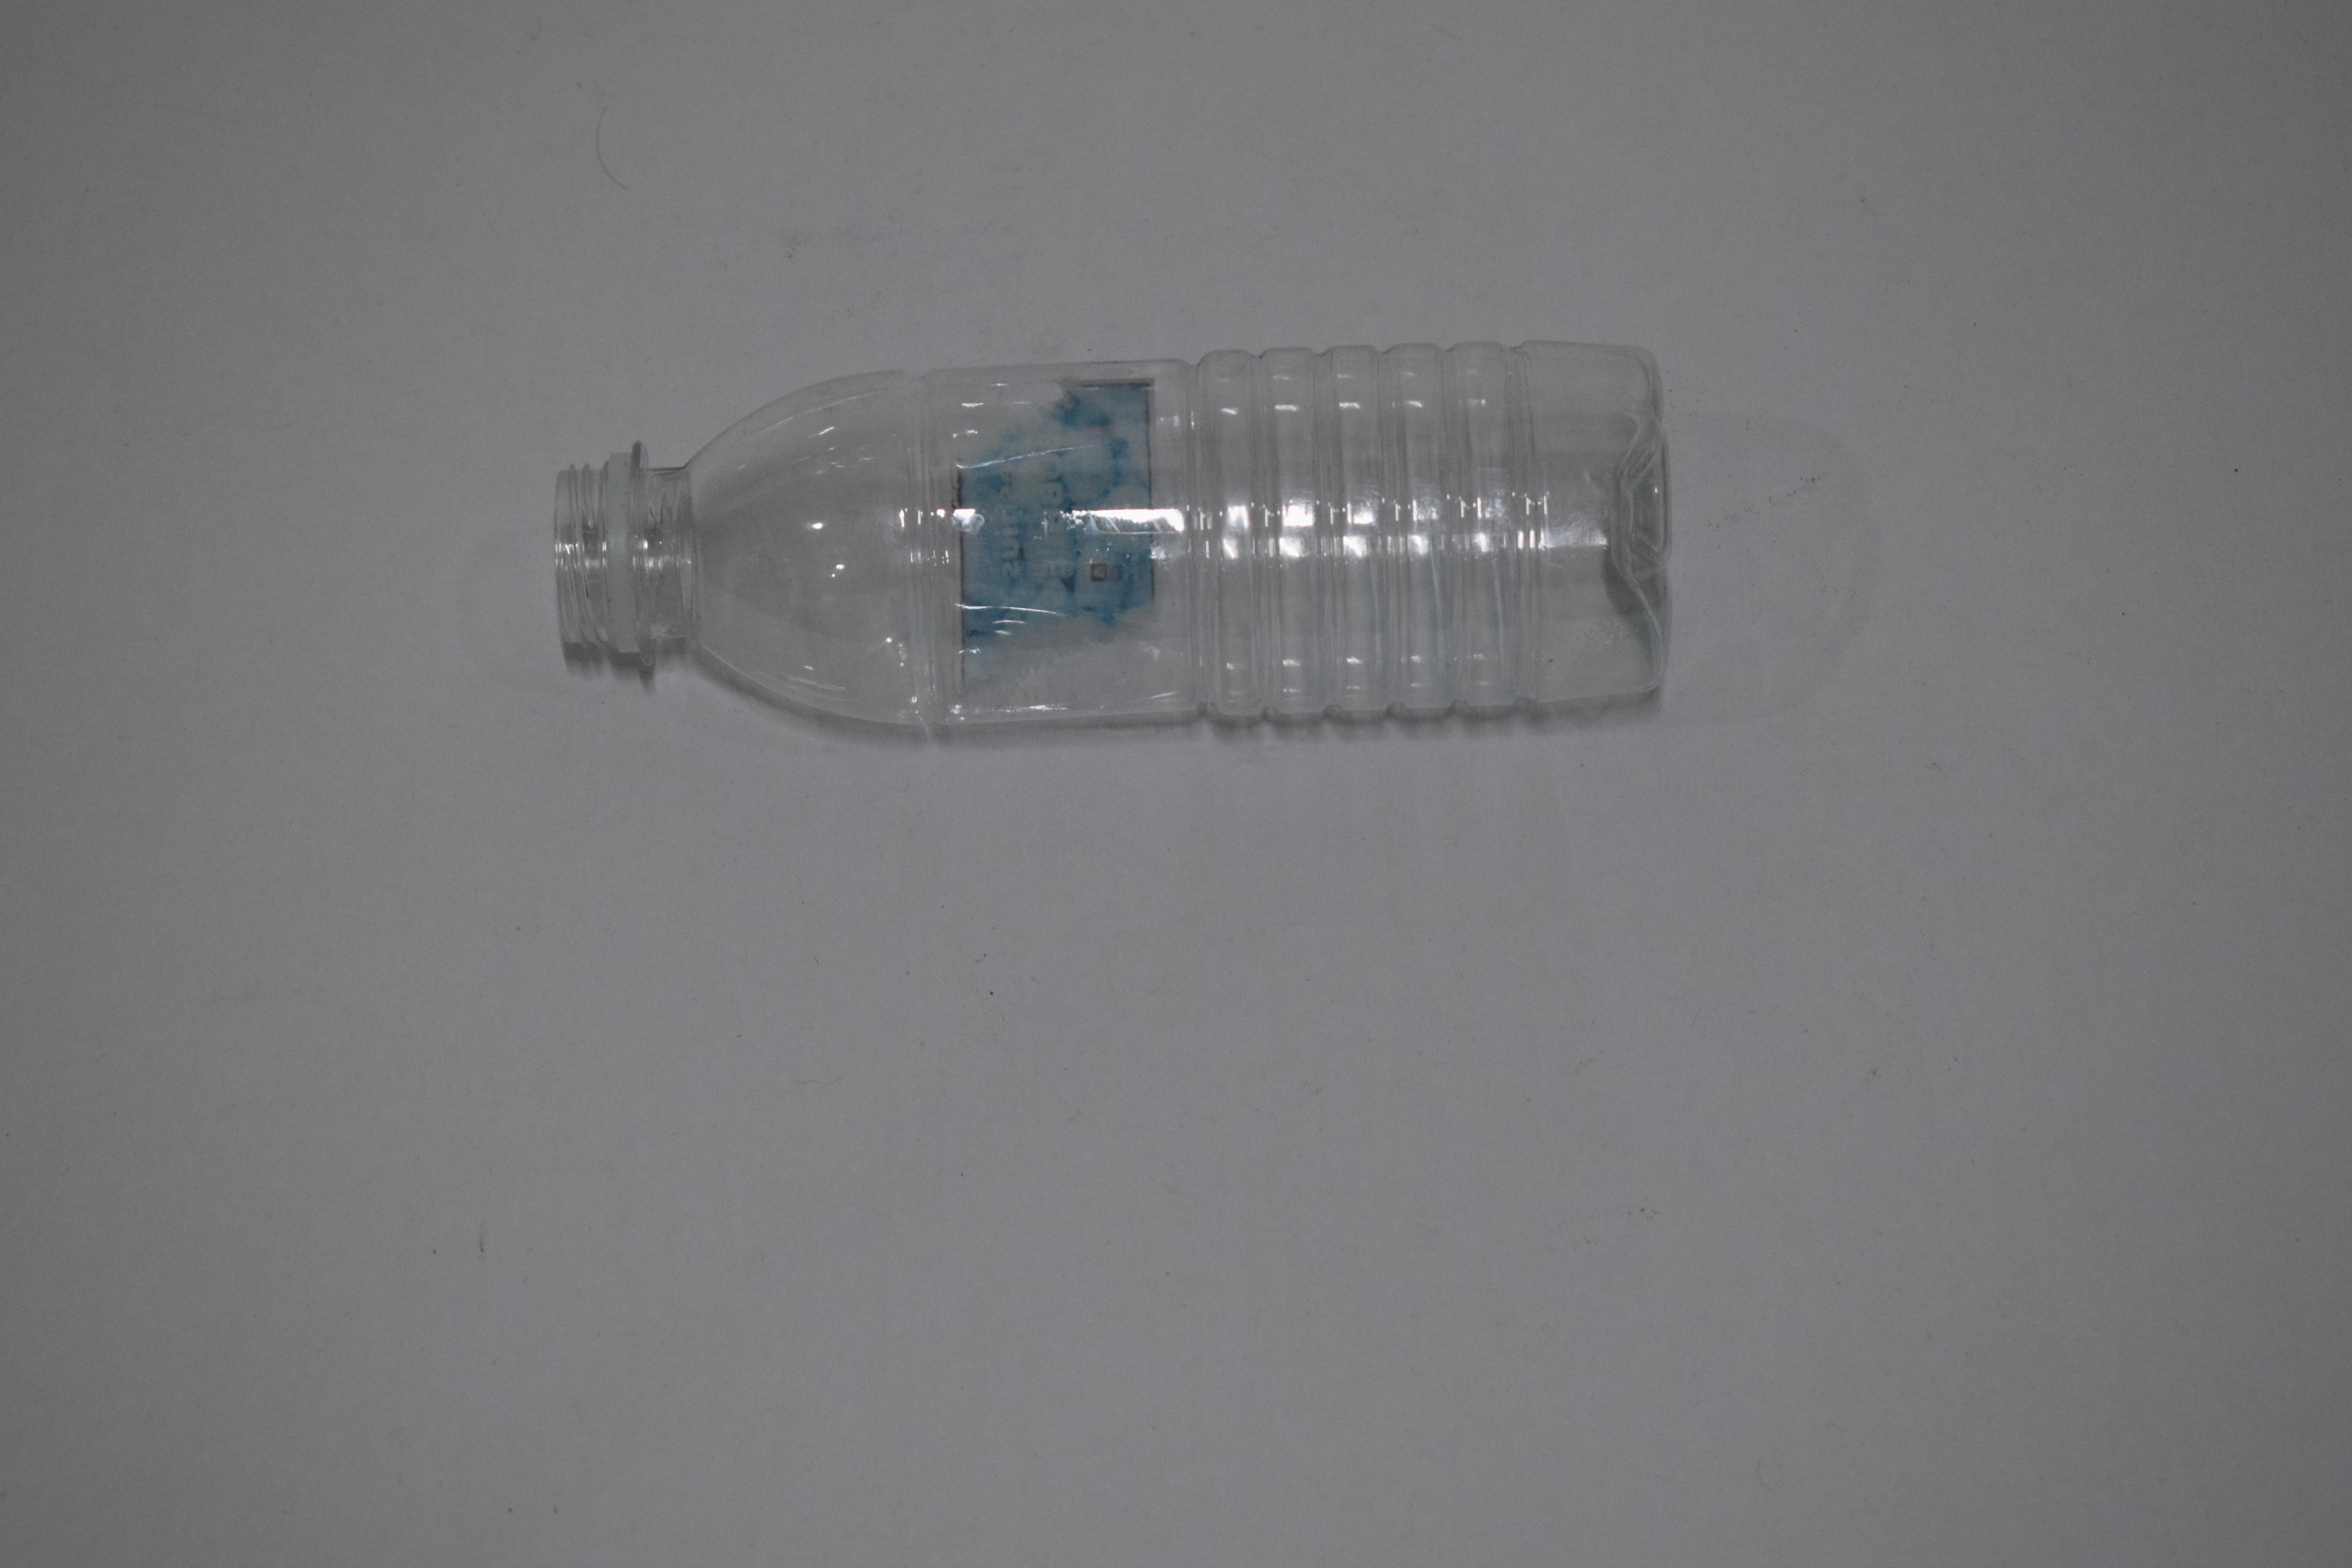bottle: (541, 329, 1673, 737)
